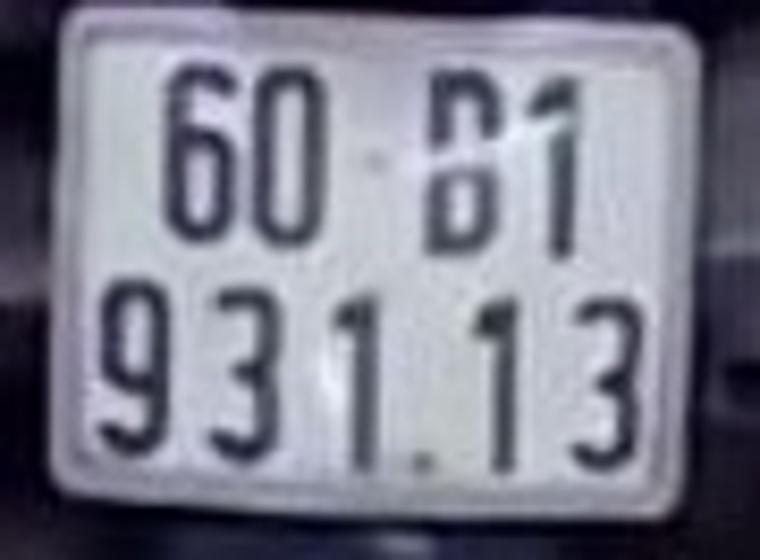.: (409, 440, 441, 484)
0: (253, 57, 331, 254)
1: (520, 66, 602, 269), (324, 285, 402, 481), (472, 286, 528, 484)
3: (200, 276, 296, 469), (562, 290, 651, 484)
6: (150, 53, 246, 247)
9: (82, 276, 184, 464)
D: (419, 66, 510, 267)
